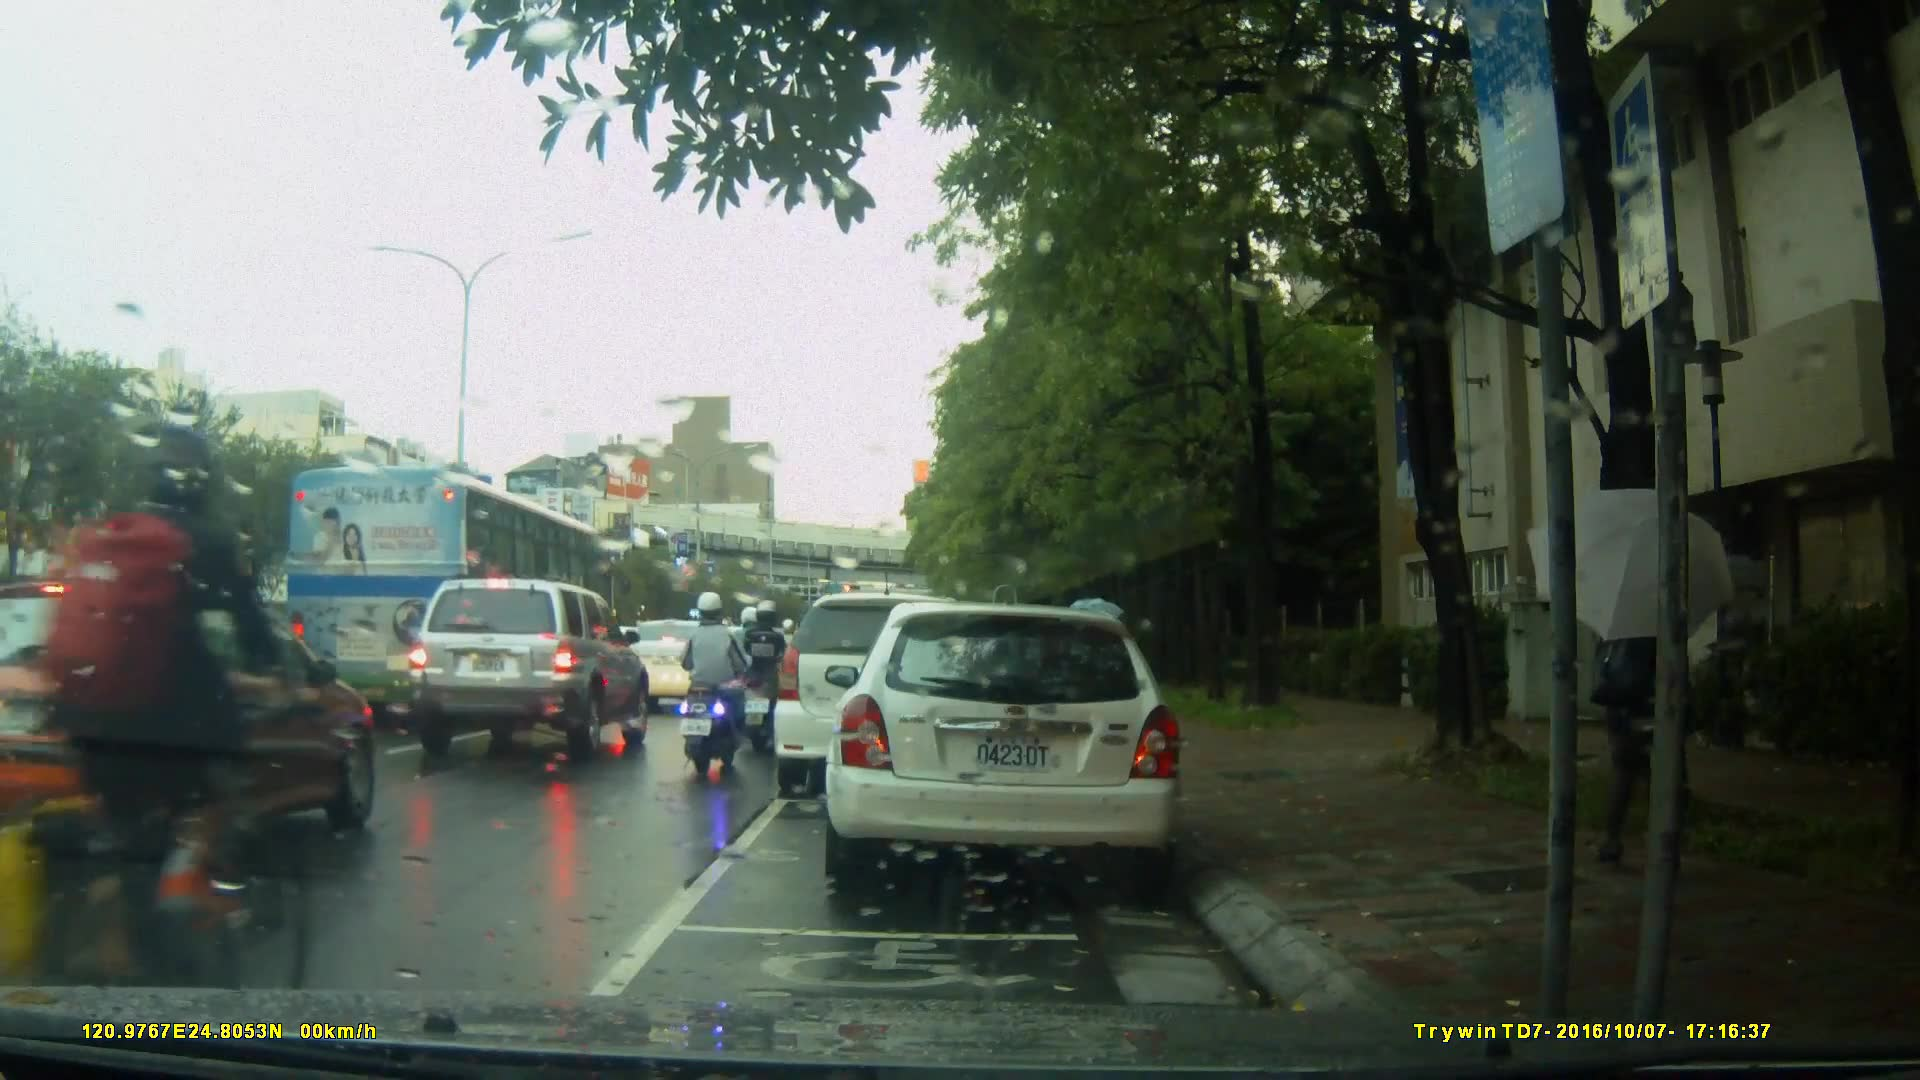pedestrian: (1605, 523, 1738, 891)
rider: (8, 421, 300, 1046), (674, 587, 748, 780), (737, 604, 796, 753), (727, 601, 777, 723)
vehicle: (1, 578, 383, 884), (835, 594, 1194, 898), (285, 465, 614, 740), (776, 590, 1026, 784), (400, 576, 654, 756)
